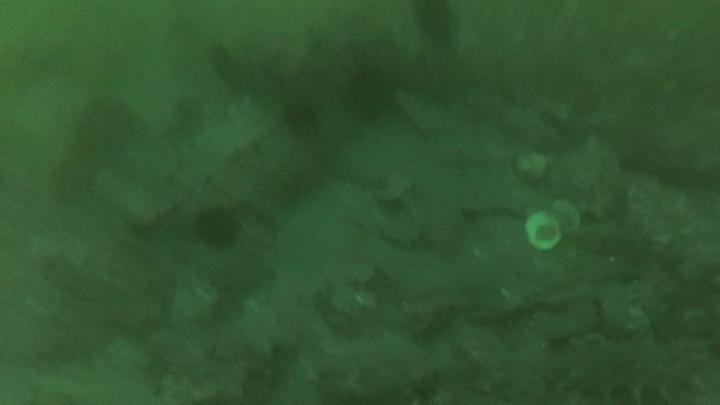echinus: (341, 63, 398, 122), (193, 205, 242, 249), (414, 1, 461, 44), (280, 94, 322, 135)
holothurian: (547, 334, 713, 403)
